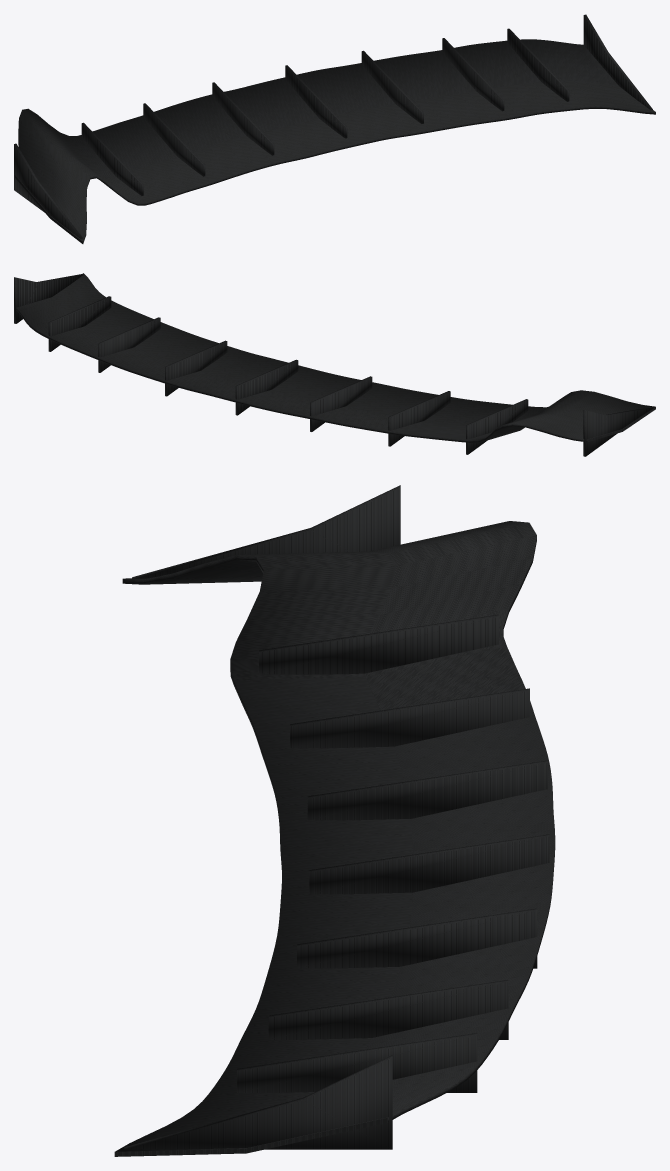
File: WB12_widebody_diffuser.glb
The picture shows the model from 3 angles, top to bottom: view 1: azimuth 30°, elevation 25°; view 2: azimuth 150°, elevation 25°; view 3: azimuth 270°, elevation 25°; orthographic projection. The views are drawn at different scales.
Visible parts, largest first — view 1: MOD_NA_WB12_plate, MOD_NA_WB12_fence_R, MOD_NA_WB12_fence_L, MOD_NA_WB12_strake_0, MOD_NA_WB12_strake_5, MOD_NA_WB12_strake_6, MOD_NA_WB12_strake_2, MOD_NA_WB12_strake_3, MOD_NA_WB12_strake_4, MOD_NA_WB12_strake_1; view 2: MOD_NA_WB12_plate, MOD_NA_WB12_fence_R, MOD_NA_WB12_fence_L, MOD_NA_WB12_strake_3, MOD_NA_WB12_strake_1, MOD_NA_WB12_strake_6, MOD_NA_WB12_strake_0, MOD_NA_WB12_strake_2, MOD_NA_WB12_strake_4, MOD_NA_WB12_strake_5; view 3: MOD_NA_WB12_plate, MOD_NA_WB12_fence_L, MOD_NA_WB12_strake_0, MOD_NA_WB12_strake_5, MOD_NA_WB12_strake_4, MOD_NA_WB12_strake_2, MOD_NA_WB12_strake_3, MOD_NA_WB12_strake_1, MOD_NA_WB12_strake_6, MOD_NA_WB12_fence_R.
Boxes of the visible parts, left/top/right/bottom form: MOD_NA_WB12_plate: left=14, top=39, right=655, bottom=243; MOD_NA_WB12_fence_R: left=14, top=143, right=82, bottom=239; MOD_NA_WB12_fence_L: left=583, top=14, right=652, bottom=109; MOD_NA_WB12_strake_0: left=81, top=122, right=143, bottom=195; MOD_NA_WB12_strake_5: left=442, top=38, right=504, bottom=111; MOD_NA_WB12_strake_6: left=507, top=28, right=569, bottom=101; MOD_NA_WB12_strake_2: left=212, top=82, right=274, bottom=155; MOD_NA_WB12_strake_3: left=285, top=65, right=347, bottom=138; MOD_NA_WB12_strake_4: left=361, top=50, right=423, bottom=123; MOD_NA_WB12_strake_1: left=143, top=103, right=205, bottom=176; MOD_NA_WB12_plate: left=16, top=273, right=655, bottom=442; MOD_NA_WB12_fence_R: left=583, top=407, right=652, bottom=456; MOD_NA_WB12_fence_L: left=14, top=274, right=83, bottom=323; MOD_NA_WB12_strake_3: left=235, top=359, right=298, bottom=415; MOD_NA_WB12_strake_1: left=388, top=391, right=450, bottom=446; MOD_NA_WB12_strake_6: left=48, top=296, right=111, bottom=351; MOD_NA_WB12_strake_0: left=466, top=399, right=528, bottom=454; MOD_NA_WB12_strake_2: left=310, top=376, right=372, bottom=431; MOD_NA_WB12_strake_4: left=165, top=340, right=227, bottom=396; MOD_NA_WB12_strake_5: left=98, top=317, right=160, bottom=372; MOD_NA_WB12_plate: left=114, top=521, right=555, bottom=1156; MOD_NA_WB12_fence_L: left=124, top=1055, right=392, bottom=1149; MOD_NA_WB12_strake_0: left=259, top=614, right=498, bottom=674; MOD_NA_WB12_strake_5: left=268, top=980, right=508, bottom=1039; MOD_NA_WB12_strake_4: left=297, top=908, right=537, bottom=968; MOD_NA_WB12_strake_2: left=307, top=760, right=547, bottom=820; MOD_NA_WB12_strake_3: left=309, top=834, right=549, bottom=894; MOD_NA_WB12_strake_1: left=290, top=688, right=529, bottom=748; MOD_NA_WB12_strake_6: left=237, top=1033, right=477, bottom=1092; MOD_NA_WB12_fence_R: left=132, top=485, right=400, bottom=578.
Size of the model in its own units: 1.4 by 0.1376 by 0.4677.
1 material, 1 textured.
